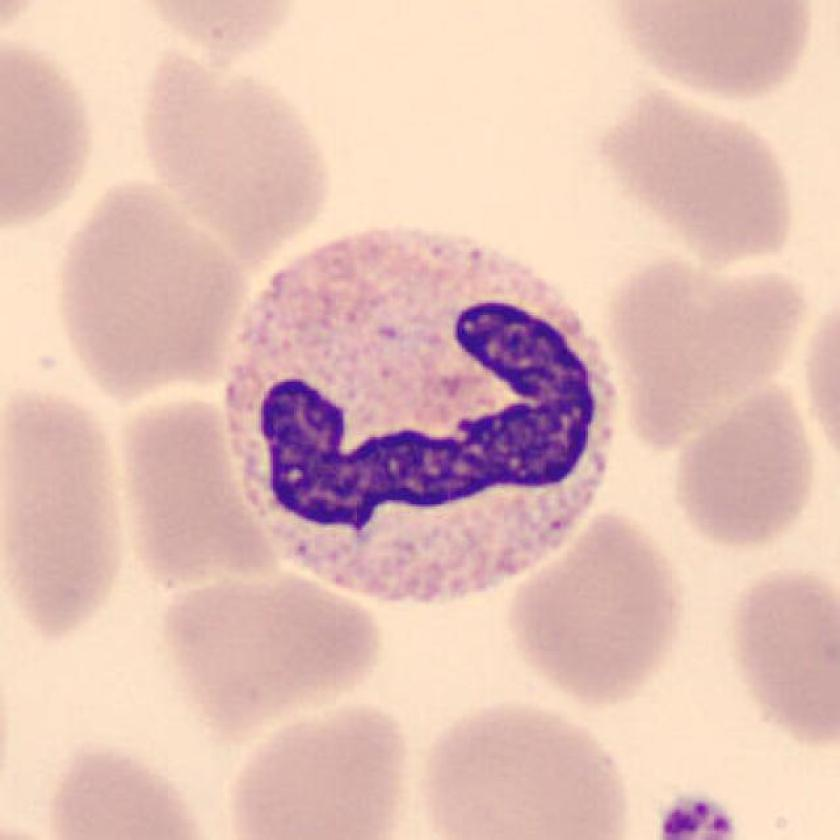neutrophil: (228, 231, 610, 601)
